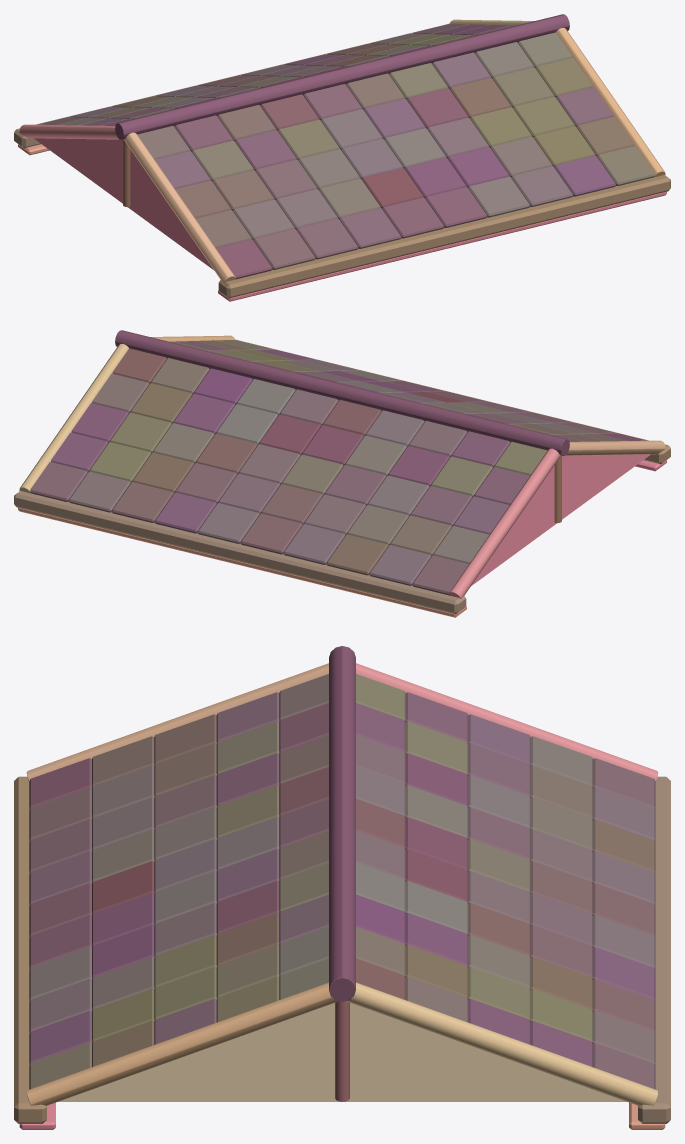
The model's file is WC_RIVER_Roof_CedarSlate_A.glb.
3 views of the same model, one above another, from view 1: azimuth 30°, elevation 25°; view 2: azimuth 150°, elevation 25°; view 3: azimuth 270°, elevation 25° (orthographic). The views are drawn at different scales.
Parts seen in each view (by area): view 1: WC_RIVER_Roof_CedarSlate_A_RenderMesh; view 2: WC_RIVER_Roof_CedarSlate_A_RenderMesh; view 3: WC_RIVER_Roof_CedarSlate_A_RenderMesh.
Part boxes in pixels (box(x1,y1,x2,y2)): WC_RIVER_Roof_CedarSlate_A_RenderMesh: box(14, 14, 670, 301); WC_RIVER_Roof_CedarSlate_A_RenderMesh: box(14, 330, 670, 617); WC_RIVER_Roof_CedarSlate_A_RenderMesh: box(14, 646, 670, 1129).
Size of the model in its own units: 4.78 by 1.05 by 4.
